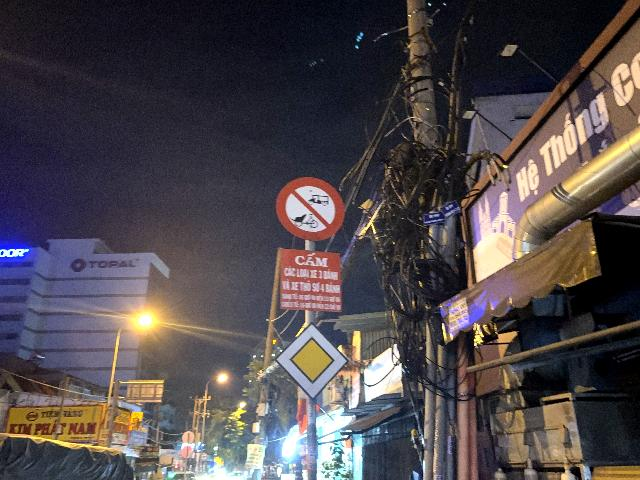bat-dau-duong-uu-tien: (274, 321, 349, 402)
cam-xe-3-banh-xe-tho-so-4-banh: (277, 177, 344, 240)
